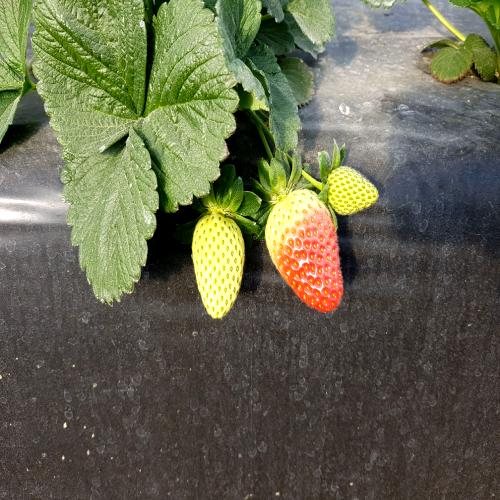partially-ripe: (266, 176, 346, 335)
unripe: (189, 194, 249, 332)
